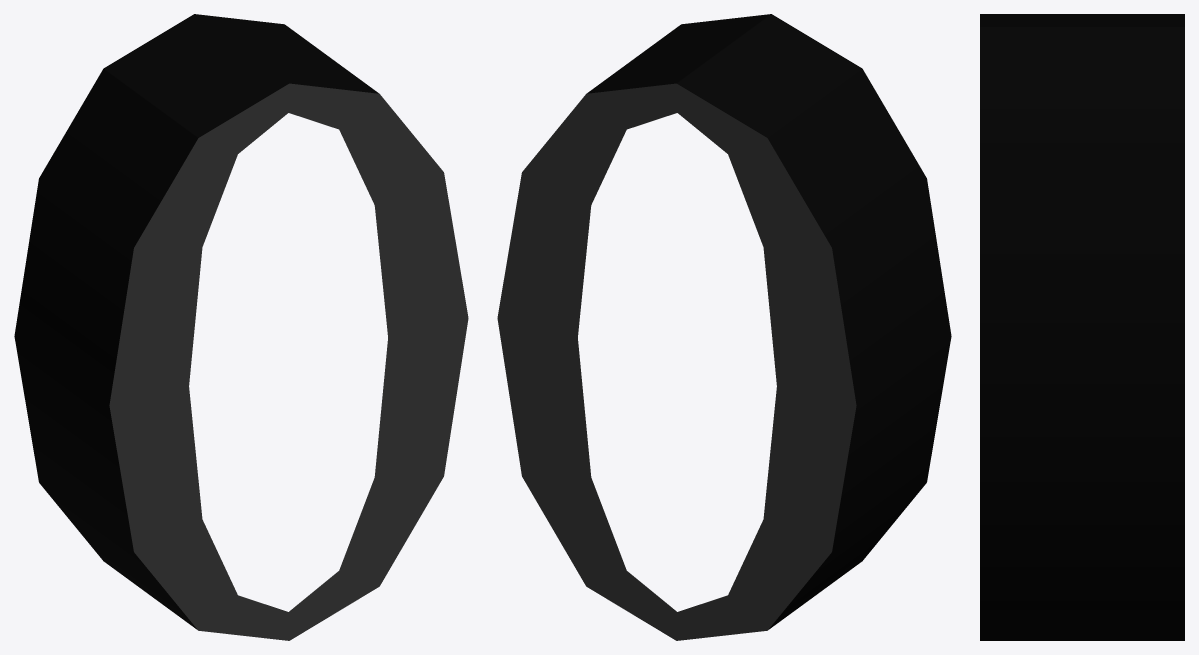
The model's file is 5f49f853-8766-4311-887e-f5aac11f0509.glb.
3 renders of one model, left to right at view 1: azimuth 30°, elevation 25°; view 2: azimuth 150°, elevation 25°; view 3: azimuth 270°, elevation 25°, orthographic. The views are drawn at different scales.
Visible parts, largest first — view 1: 0_Soul_Black; view 2: 0_Soul_Black; view 3: 0_Soul_Black.
Boxes of the visible parts, x1,y1,x2,y2 form: 0_Soul_Black: [14, 14, 468, 640]; 0_Soul_Black: [497, 14, 951, 640]; 0_Soul_Black: [980, 14, 1184, 640].
Size of what is drawn, in the model's own units: 0.0982 by 0.1457 by 0.045.
Materials: 2 (2 with a texture image).
